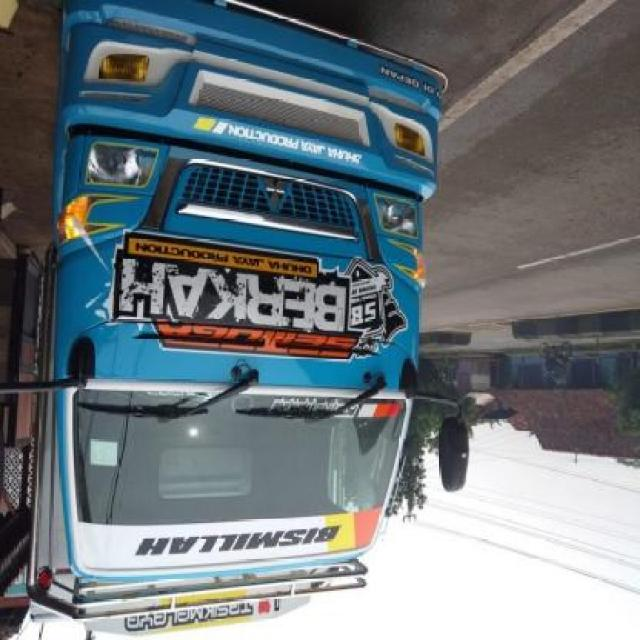truck: (2, 1, 471, 638)
